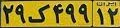character: (27, 3, 52, 25), (14, 3, 28, 27), (64, 2, 78, 26), (1, 3, 15, 26), (50, 2, 65, 23), (76, 3, 91, 24), (106, 6, 119, 27), (96, 7, 106, 26)
